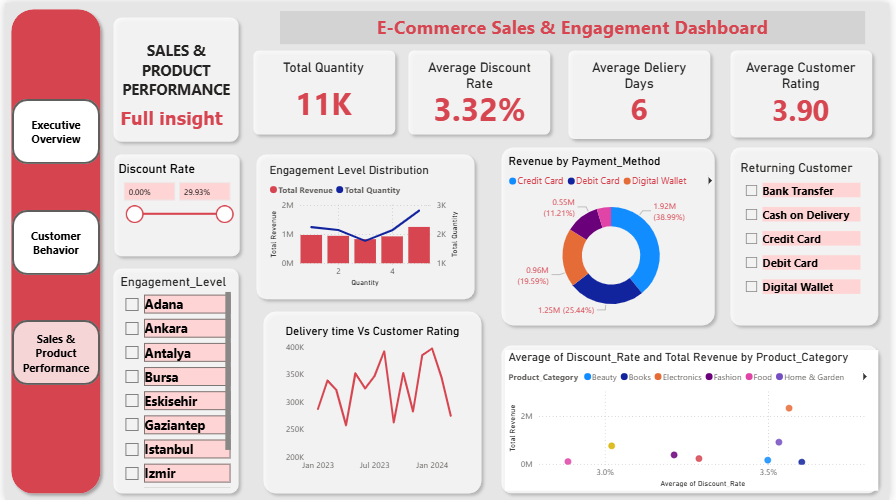

What the dashboard file says about the page in this screenshot:
{"tool":"powerbi","page":{"name":"Sales & Product Performance","canvas":[1280,720],"ordinal":2},"visuals":[{"type":"shape","box":[0,0,147.4,720],"z":0},{"type":"shape","box":[350.1,59.5,223.9,140.3],"z":1000},{"type":"shape","box":[575.4,59.5,223.9,140.3],"z":2000},{"type":"shape","box":[807.2,59,224,146.9],"z":3000},{"type":"shape","box":[1041.7,59.5,223.9,144.6],"z":4000},{"type":"shape","box":[147.4,11.3,199.8,198.4],"z":5000},{"type":"textbox","box":[162.3,49.5,171.6,97.4],"z":6000},{"type":"textbox","box":[147.4,144.6,187.1,65.2],"z":7000},{"type":"shape","box":[148.8,209.8,199.8,165.8],"z":8000},{"type":"shape","box":[147.4,375.6,199.8,344.4],"z":9000},{"type":"shape","box":[355.7,209.8,334.5,228.2],"z":10000},{"type":"shape","box":[365.7,438,334.5,282],"z":11000},{"type":"shape","box":[1041.7,199.8,232.4,276.4],"z":12000},{"type":"shape","box":[710.1,199.8,327.4,276.4],"z":13000},{"type":"shape","box":[710.1,487.6,564.1,232.4],"z":14000},{"type":"card","title":"Total Quantity","fields":{"Values":["Orders.Total Quantity"]},"box":[365.7,82.2,192.8,99.2],"z":15000},{"type":"card","title":"Average Discount Rate","fields":{"Values":["Orders.Average Discount_Rate"]},"box":[591,82.2,192.8,95],"z":16000},{"type":"card","title":"Average Deliery Days","fields":{"Values":["Orders.Average Delivery_Time"]},"box":[824.9,82.2,188.5,95],"z":17000},{"type":"card","title":"Average Customer Rating","fields":{"Values":["Customers.Average Customer_Rating"]},"box":[1061.6,82.2,184.3,99.2],"z":18000},{"type":"lineStackedColumnComboChart","title":"Engagement Level Distribution","fields":{"Y":["Orders.Total Revenue"],"Category":["Orders.Quantity"],"Y2":["Orders.Total Quantity"]},"box":[378.4,232.4,283.5,184.3],"z":19000},{"type":"lineChart","title":"Delivery time Vs Customer Rating","fields":{"Y":["Orders.Total Revenue"],"Category":["Orders.Date.Variation.Date Hierarchy.Year","Orders.Date.Variation.Date Hierarchy.Quarter","Orders.Date.Variation.Date Hierarchy.Month"]},"box":[401.1,464.9,273.5,222.5],"z":20000},{"type":"slicer","title":"Returning Customer","fields":{"Values":["Orders.Payment_Method"]},"box":[1061.6,228.2,184.3,236.7],"z":21000},{"type":"slicer","title":"Discount Rate","fields":{"Values":["Orders.Discount_Rate"]},"box":[158.7,229.6,180,127.6],"z":22000},{"type":"slicer","title":"Engagement_Level","fields":{"Values":["Customers.City"]},"box":[163,392.6,170.1,314.6],"z":23000},{"type":"textbox","box":[398.3,11.3,847.6,48.2],"z":24000},{"type":"donutChart","title":"Revenue by Payment_Method","fields":{"Y":["Orders.Total Revenue"],"Category":["Orders.Payment_Method"]},"box":[724.3,218.3,307.6,246.6],"z":25000},{"type":"scatterChart","fields":{"X":["Avg(Orders.Discount_Rate)"],"Y":["Orders.Total Revenue"],"Series":["Orders.Product_Category"]},"box":[724.3,503.1,541.4,204.1],"z":27000},{"type":"actionButton","box":[10.1,459.4,127.5,94.2],"z":27001},{"type":"actionButton","box":[10.1,300,127.5,94.2],"z":27002},{"type":"actionButton","box":[10.1,139.1,127.5,94.2],"z":27003}]}

Visuals, with their boxes in screenshot pixels (x1, y1, x2, y2), scaled from the page's 1280x720 canvas onto the 896x500 screenshot:
shape: BBox(0, 0, 103, 499)
shape: BBox(245, 41, 402, 139)
shape: BBox(403, 41, 560, 139)
shape: BBox(565, 41, 722, 143)
shape: BBox(729, 41, 886, 142)
shape: BBox(103, 8, 243, 146)
textbox: BBox(114, 34, 234, 102)
textbox: BBox(103, 100, 234, 146)
shape: BBox(104, 146, 244, 261)
shape: BBox(103, 261, 243, 499)
shape: BBox(249, 146, 483, 304)
shape: BBox(256, 304, 490, 499)
shape: BBox(729, 139, 892, 331)
shape: BBox(497, 139, 726, 331)
shape: BBox(497, 339, 892, 499)
"Total Quantity" card: BBox(256, 57, 391, 126)
"Average Discount Rate" card: BBox(414, 57, 549, 123)
"Average Deliery Days" card: BBox(577, 57, 709, 123)
"Average Customer Rating" card: BBox(743, 57, 872, 126)
"Engagement Level Distribution" lineStackedColumnComboChart: BBox(265, 161, 463, 289)
"Delivery time Vs Customer Rating" lineChart: BBox(281, 323, 472, 477)
"Returning Customer" slicer: BBox(743, 158, 872, 323)
"Discount Rate" slicer: BBox(111, 159, 237, 248)
"Engagement_Level" slicer: BBox(114, 273, 233, 491)
textbox: BBox(279, 8, 872, 41)
"Revenue by Payment_Method" donutChart: BBox(507, 152, 722, 323)
scatterChart - Avg(Orders.Discount_Rate) x Orders.Total Revenue: BBox(507, 349, 886, 491)
actionButton: BBox(7, 319, 96, 384)
actionButton: BBox(7, 208, 96, 274)
actionButton: BBox(7, 97, 96, 162)
